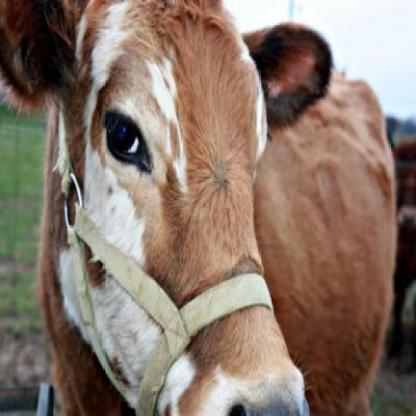mouth: (188, 370, 309, 416)
upper: (259, 390, 280, 406)
